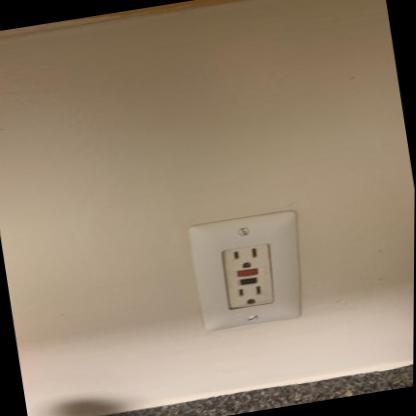OUTLET: (187, 209, 313, 334)
